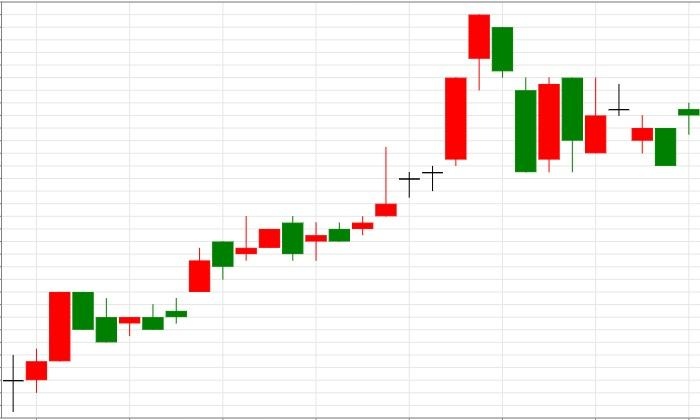bearish_engulfing_fall: (95, 215, 304, 343)
shooting_star_fall: (95, 147, 398, 343)
